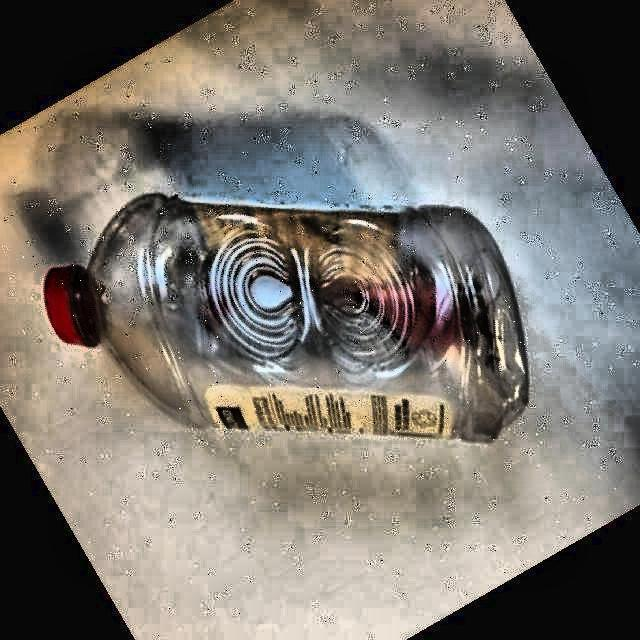plastic: (46, 194, 528, 440)
